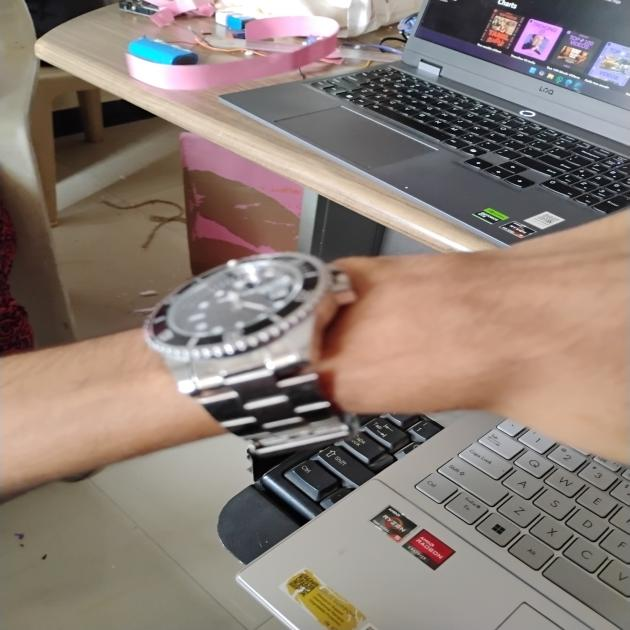wristwatch: (136, 269, 410, 466)
